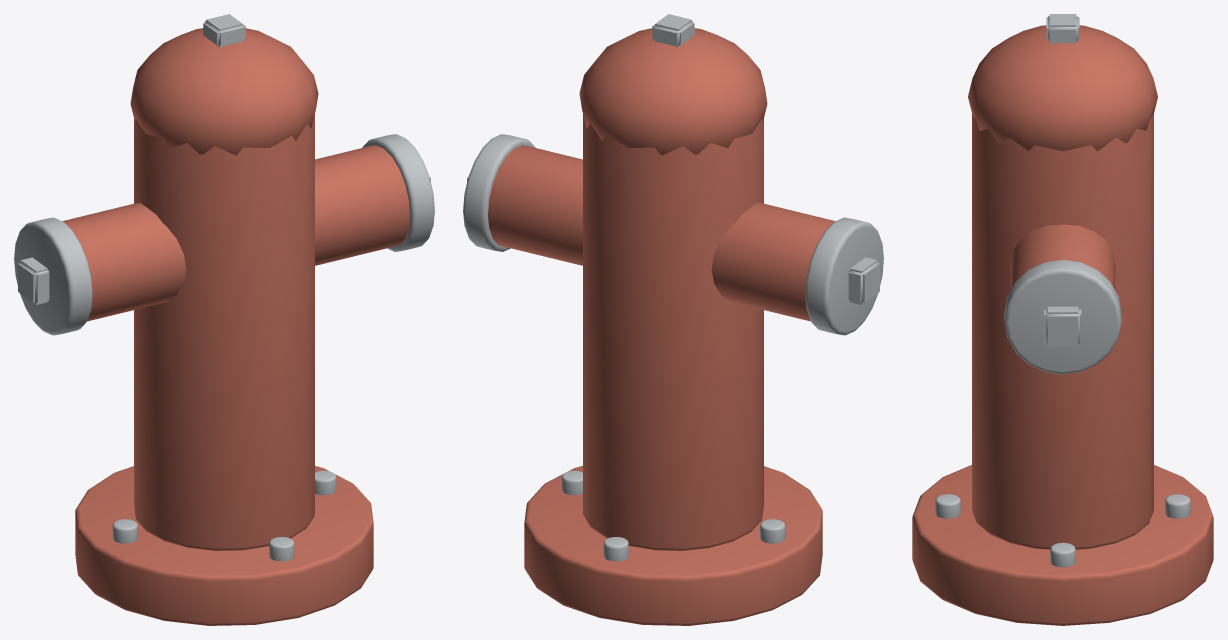
The model's file is FireHydrant.glb.
3 views of the same model, side by side, from view 1: azimuth 30°, elevation 25°; view 2: azimuth 150°, elevation 25°; view 3: azimuth 270°, elevation 25° (orthographic).
Parts seen in each view (by area): view 1: ST_FireHydrant_ST_red.001, ST_FireHydrant_ST_steel.001; view 2: ST_FireHydrant_ST_red.001, ST_FireHydrant_ST_steel.001; view 3: ST_FireHydrant_ST_red.001, ST_FireHydrant_ST_steel.001.
Boxes of the visible parts, x1,y1,x2,y2 form: ST_FireHydrant_ST_red.001: (62, 28, 409, 625); ST_FireHydrant_ST_steel.001: (14, 14, 434, 561); ST_FireHydrant_ST_red.001: (488, 28, 835, 625); ST_FireHydrant_ST_steel.001: (463, 14, 883, 561); ST_FireHydrant_ST_red.001: (912, 25, 1213, 625); ST_FireHydrant_ST_steel.001: (935, 14, 1190, 567).
Bounding box in the file's own units: 0.581 × 0.7575 × 0.38.
